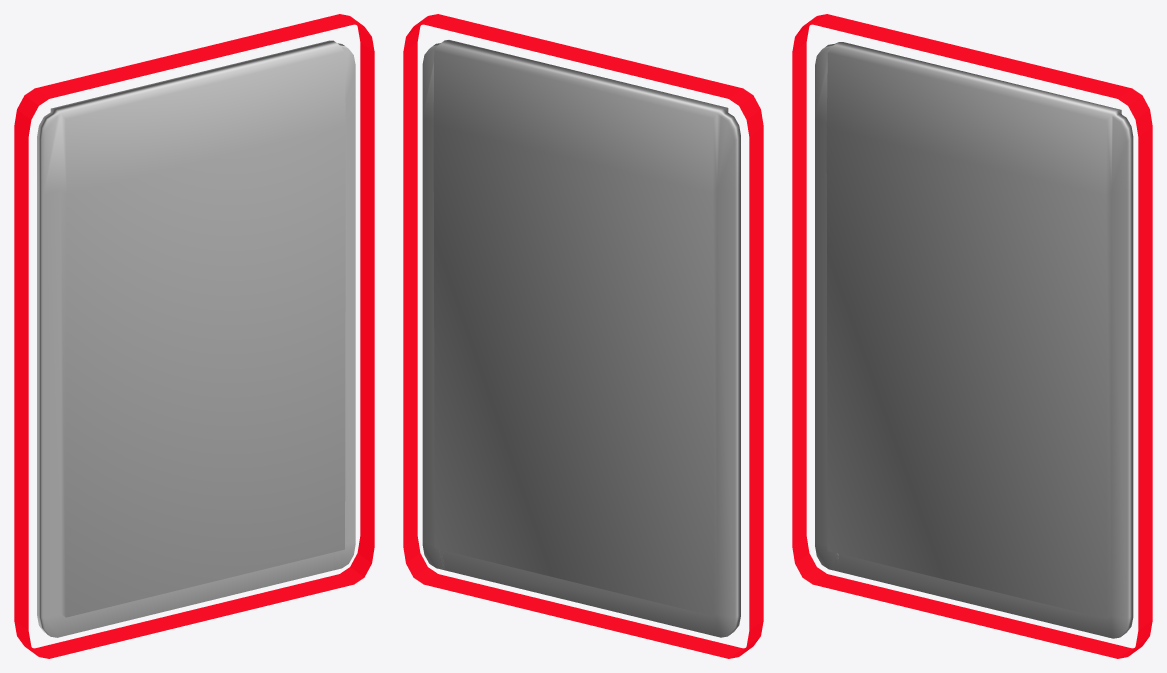
The model's file is starwar.glb.
3 renders of one model, left to right at view 1: azimuth 30°, elevation 25°; view 2: azimuth 150°, elevation 25°; view 3: azimuth 330°, elevation 25°, orthographic.
Parts seen in each view (by area): view 1: Cube, Cube.001; view 2: Cube, Cube.001; view 3: Cube, Cube.001.
Boxes of the visible parts, bbox=[...] form: Cube: bbox=[37, 40, 355, 637]; Cube.001: bbox=[14, 14, 374, 658]; Cube: bbox=[422, 40, 740, 637]; Cube.001: bbox=[403, 14, 763, 658]; Cube: bbox=[815, 42, 1133, 638]; Cube.001: bbox=[792, 14, 1152, 658].
Size of the model in its own units: 1.4 by 2.17 by 0.116.
